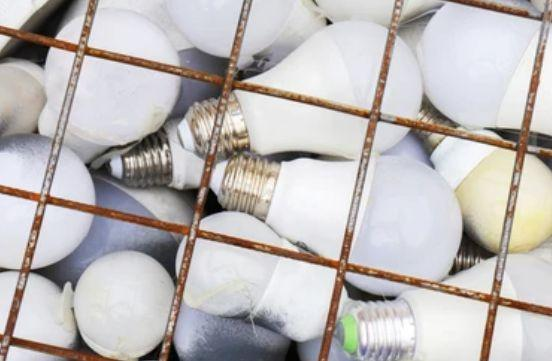light bulb: (202, 155, 466, 296), (176, 19, 425, 165), (171, 207, 355, 340), (339, 251, 552, 361), (409, 101, 552, 257), (33, 6, 185, 151), (417, 0, 552, 135), (0, 134, 103, 270), (73, 248, 179, 361), (0, 268, 78, 361)
